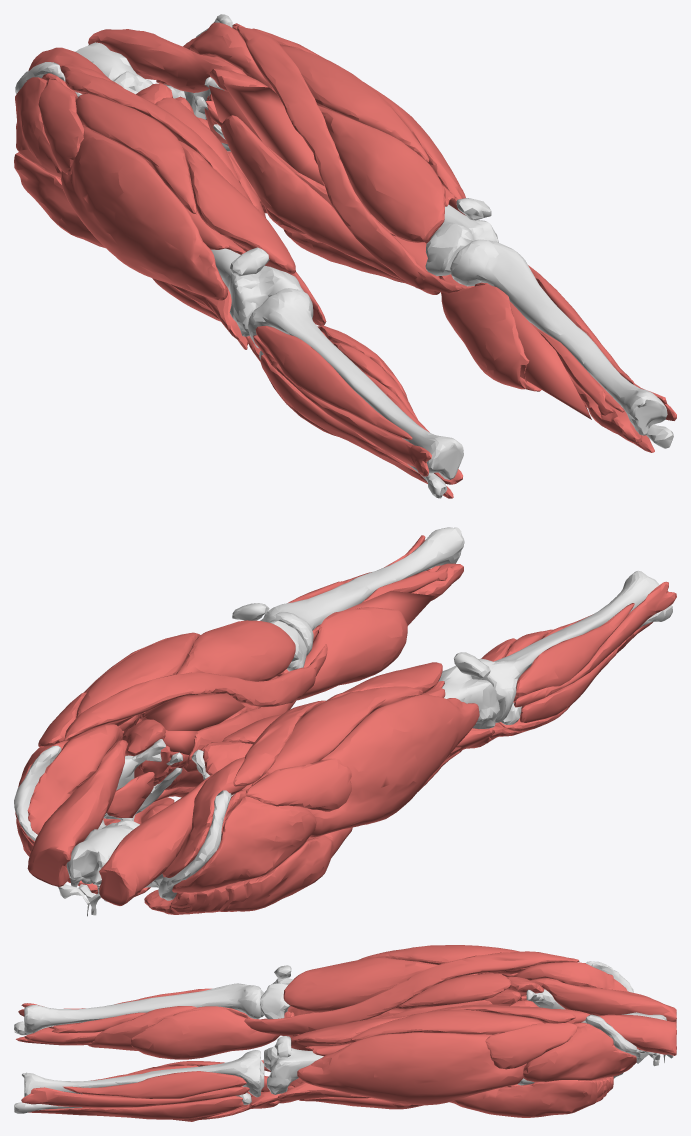
The model's file is FinalForm7.glb.
3 renders of one model, top to bottom at view 1: azimuth 30°, elevation 25°; view 2: azimuth 150°, elevation 25°; view 3: azimuth 270°, elevation 25°, orthographic. The views are drawn at different scales.
Visible parts, largest first — view 1: MC_bodycoil_vetted_L_tibialis_anterior; view 2: MC_bodycoil_vetted_L_tibialis_anterior; view 3: MC_bodycoil_vetted_L_tibialis_anterior.
Part boxes in pixels (x1=…): MC_bodycoil_vetted_L_tibialis_anterior: x1=14, y1=14, x2=676, y2=498; MC_bodycoil_vetted_L_tibialis_anterior: x1=14, y1=527, x2=676, y2=916; MC_bodycoil_vetted_L_tibialis_anterior: x1=14, y1=945, x2=676, y2=1121.
Bounding box in the file's own units: 37.19 × 17.85 × 100.
